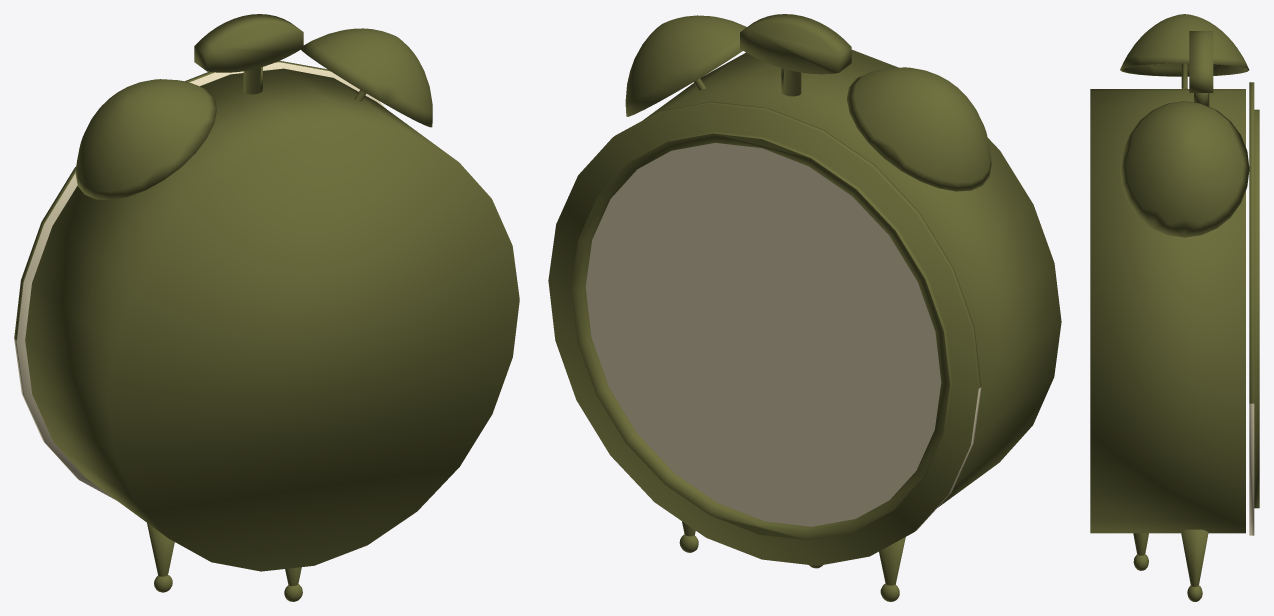
File: clock_alarm.fbx
3 views of the same model, side by side, from view 1: azimuth 30°, elevation 25°; view 2: azimuth 150°, elevation 25°; view 3: azimuth 270°, elevation 25° (orthographic). The views are drawn at different scales.
Parts seen in each view (by area): view 1: body, bell.001, bell, switch, face, leg.001; view 2: face, body, bell.001, bell, switch, leg.001; view 3: body, bell, bell.001, face, switch, leg, leg.002.
Boxes of the visible parts, x1,y1,x2,y2 form: body: (25, 68, 519, 571); bell.001: (75, 79, 216, 200); bell: (301, 28, 432, 127); switch: (194, 14, 303, 94); face: (14, 60, 386, 500); leg.001: (147, 523, 174, 592); face: (548, 101, 981, 565); body: (644, 49, 1061, 507); bell.001: (847, 67, 991, 191); bell: (625, 15, 746, 116); switch: (740, 14, 851, 96); leg.001: (879, 537, 905, 601); body: (1090, 89, 1245, 533); bell: (1120, 101, 1249, 237); bell.001: (1120, 14, 1249, 88); face: (1249, 82, 1259, 535); switch: (1189, 31, 1213, 106); leg: (1181, 529, 1208, 601); leg.002: (1133, 533, 1148, 570).
Size of the model in its own units: 0.304 by 0.3873 by 0.1132.
